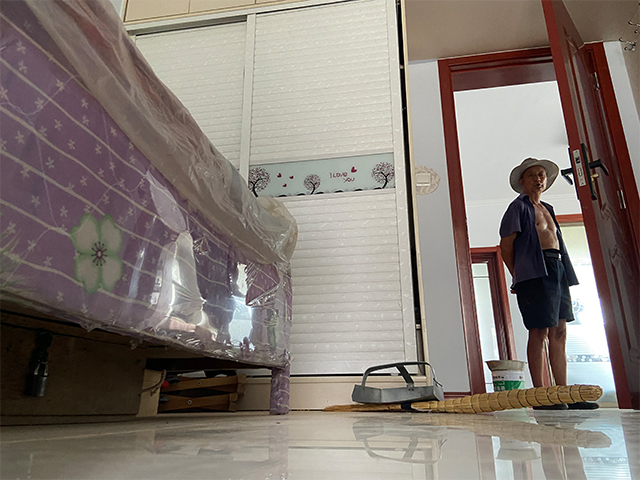bed: (1, 1, 296, 415)
cabinet: (219, 154, 432, 413)
